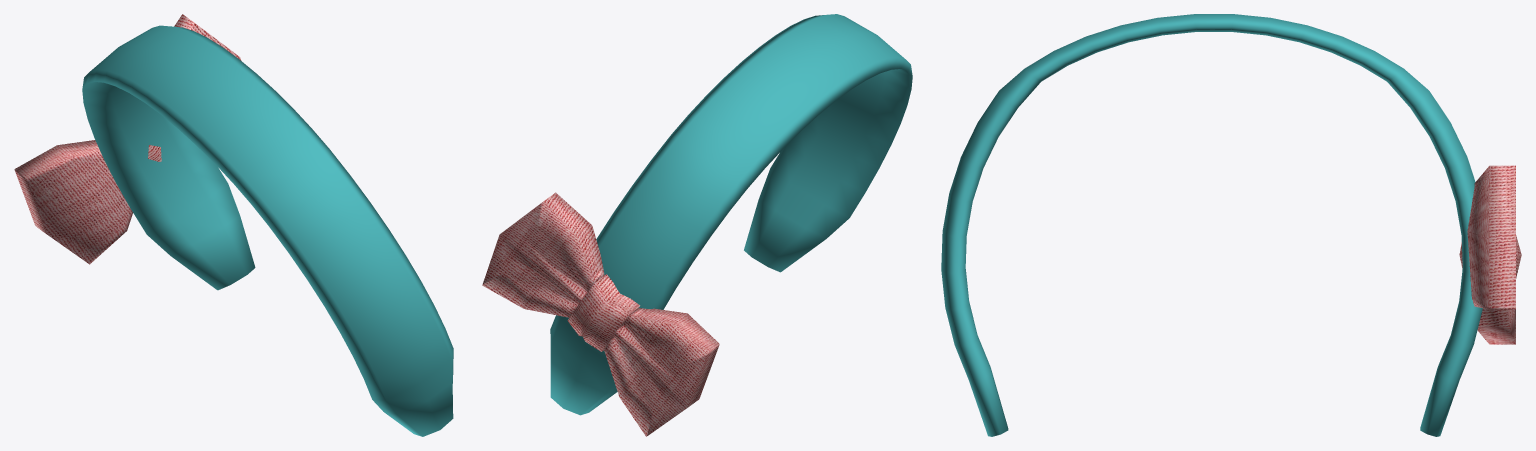
File: hat_blue_pink_bow.glb
3 views of the same model, side by side, from view 1: azimuth 30°, elevation 25°; view 2: azimuth 150°, elevation 25°; view 3: azimuth 270°, elevation 25° (orthographic). The views are drawn at different scales.
Parts seen in each view (by area): view 1: Hatmodel; view 2: Hatmodel; view 3: Hatmodel.
Part boxes in pixels (x1,y1,x2,y2): Hatmodel: (14, 14, 453, 436); Hatmodel: (482, 14, 912, 436); Hatmodel: (941, 14, 1521, 436).
Bounding box in the file's own units: 2.52 × 3.46 × 5.04.
Materials: 2 (1 with a texture image).
